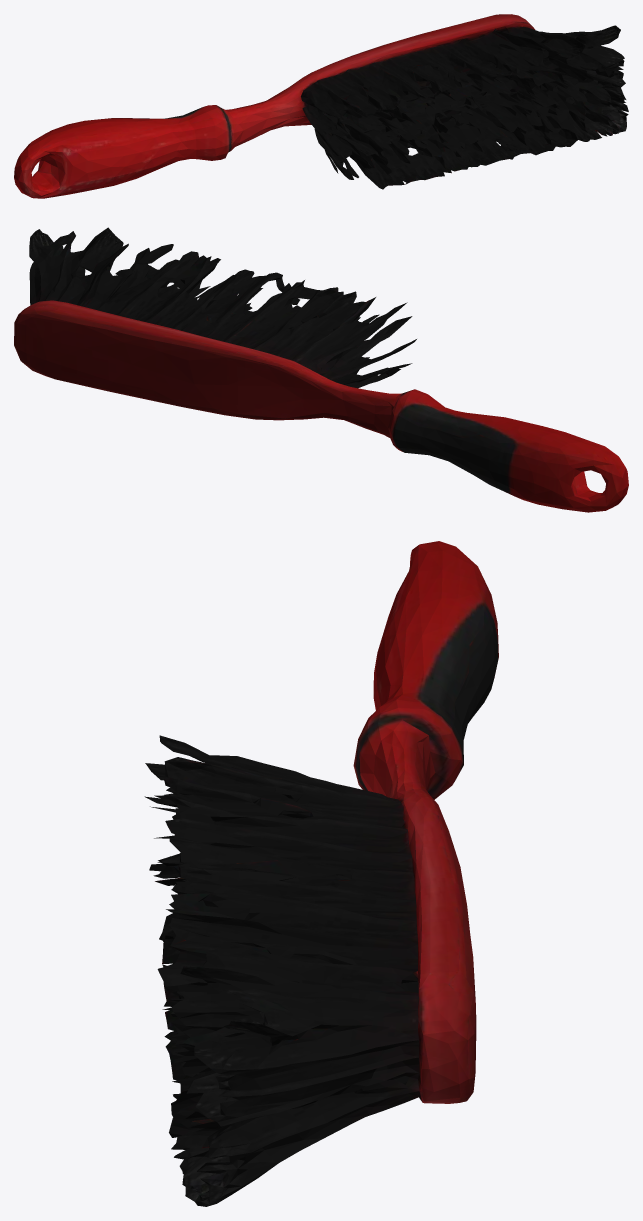
The model's file is tool_brush.glb.
3 renders of one model, top to bottom at view 1: azimuth 30°, elevation 25°; view 2: azimuth 150°, elevation 25°; view 3: azimuth 270°, elevation 25°, orthographic. The views are drawn at different scales.
Visible parts, largest first — view 1: V_red_brush_0; view 2: V_red_brush_0; view 3: V_red_brush_0.
Boxes of the visible parts, x1=… form: V_red_brush_0: x1=14, y1=14, x2=628, y2=198; V_red_brush_0: x1=14, y1=227, x2=628, y2=512; V_red_brush_0: x1=144, y1=541, x2=498, y2=1206.
Size of the model in its own units: 0.3193 by 0.0547 by 0.0883.
Materials: 1 (1 with a texture image).
